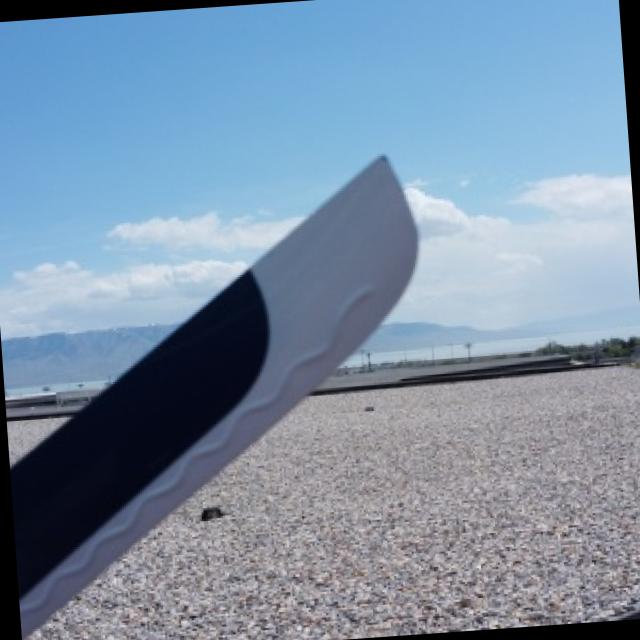healthy: (14, 155, 418, 634)
